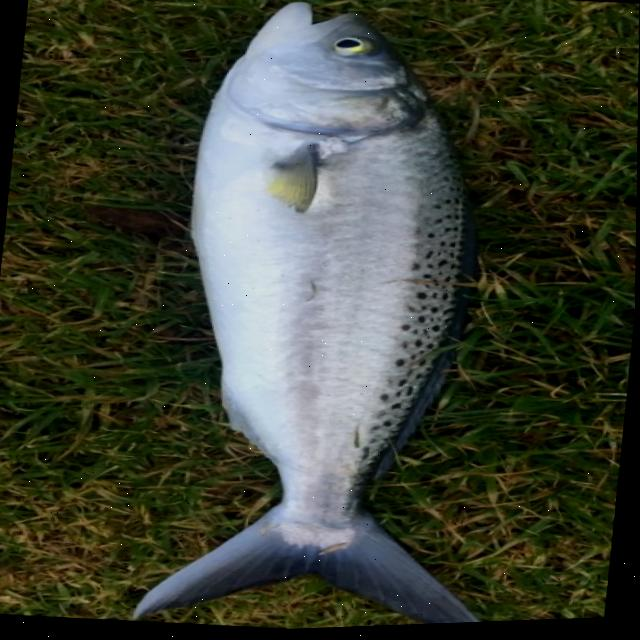Australian Salmon: (101, 0, 570, 637)
